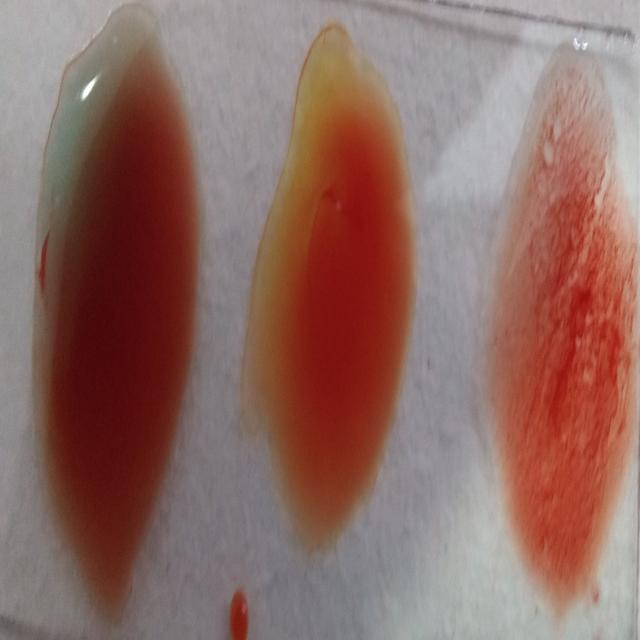D: (490, 43, 639, 608)
